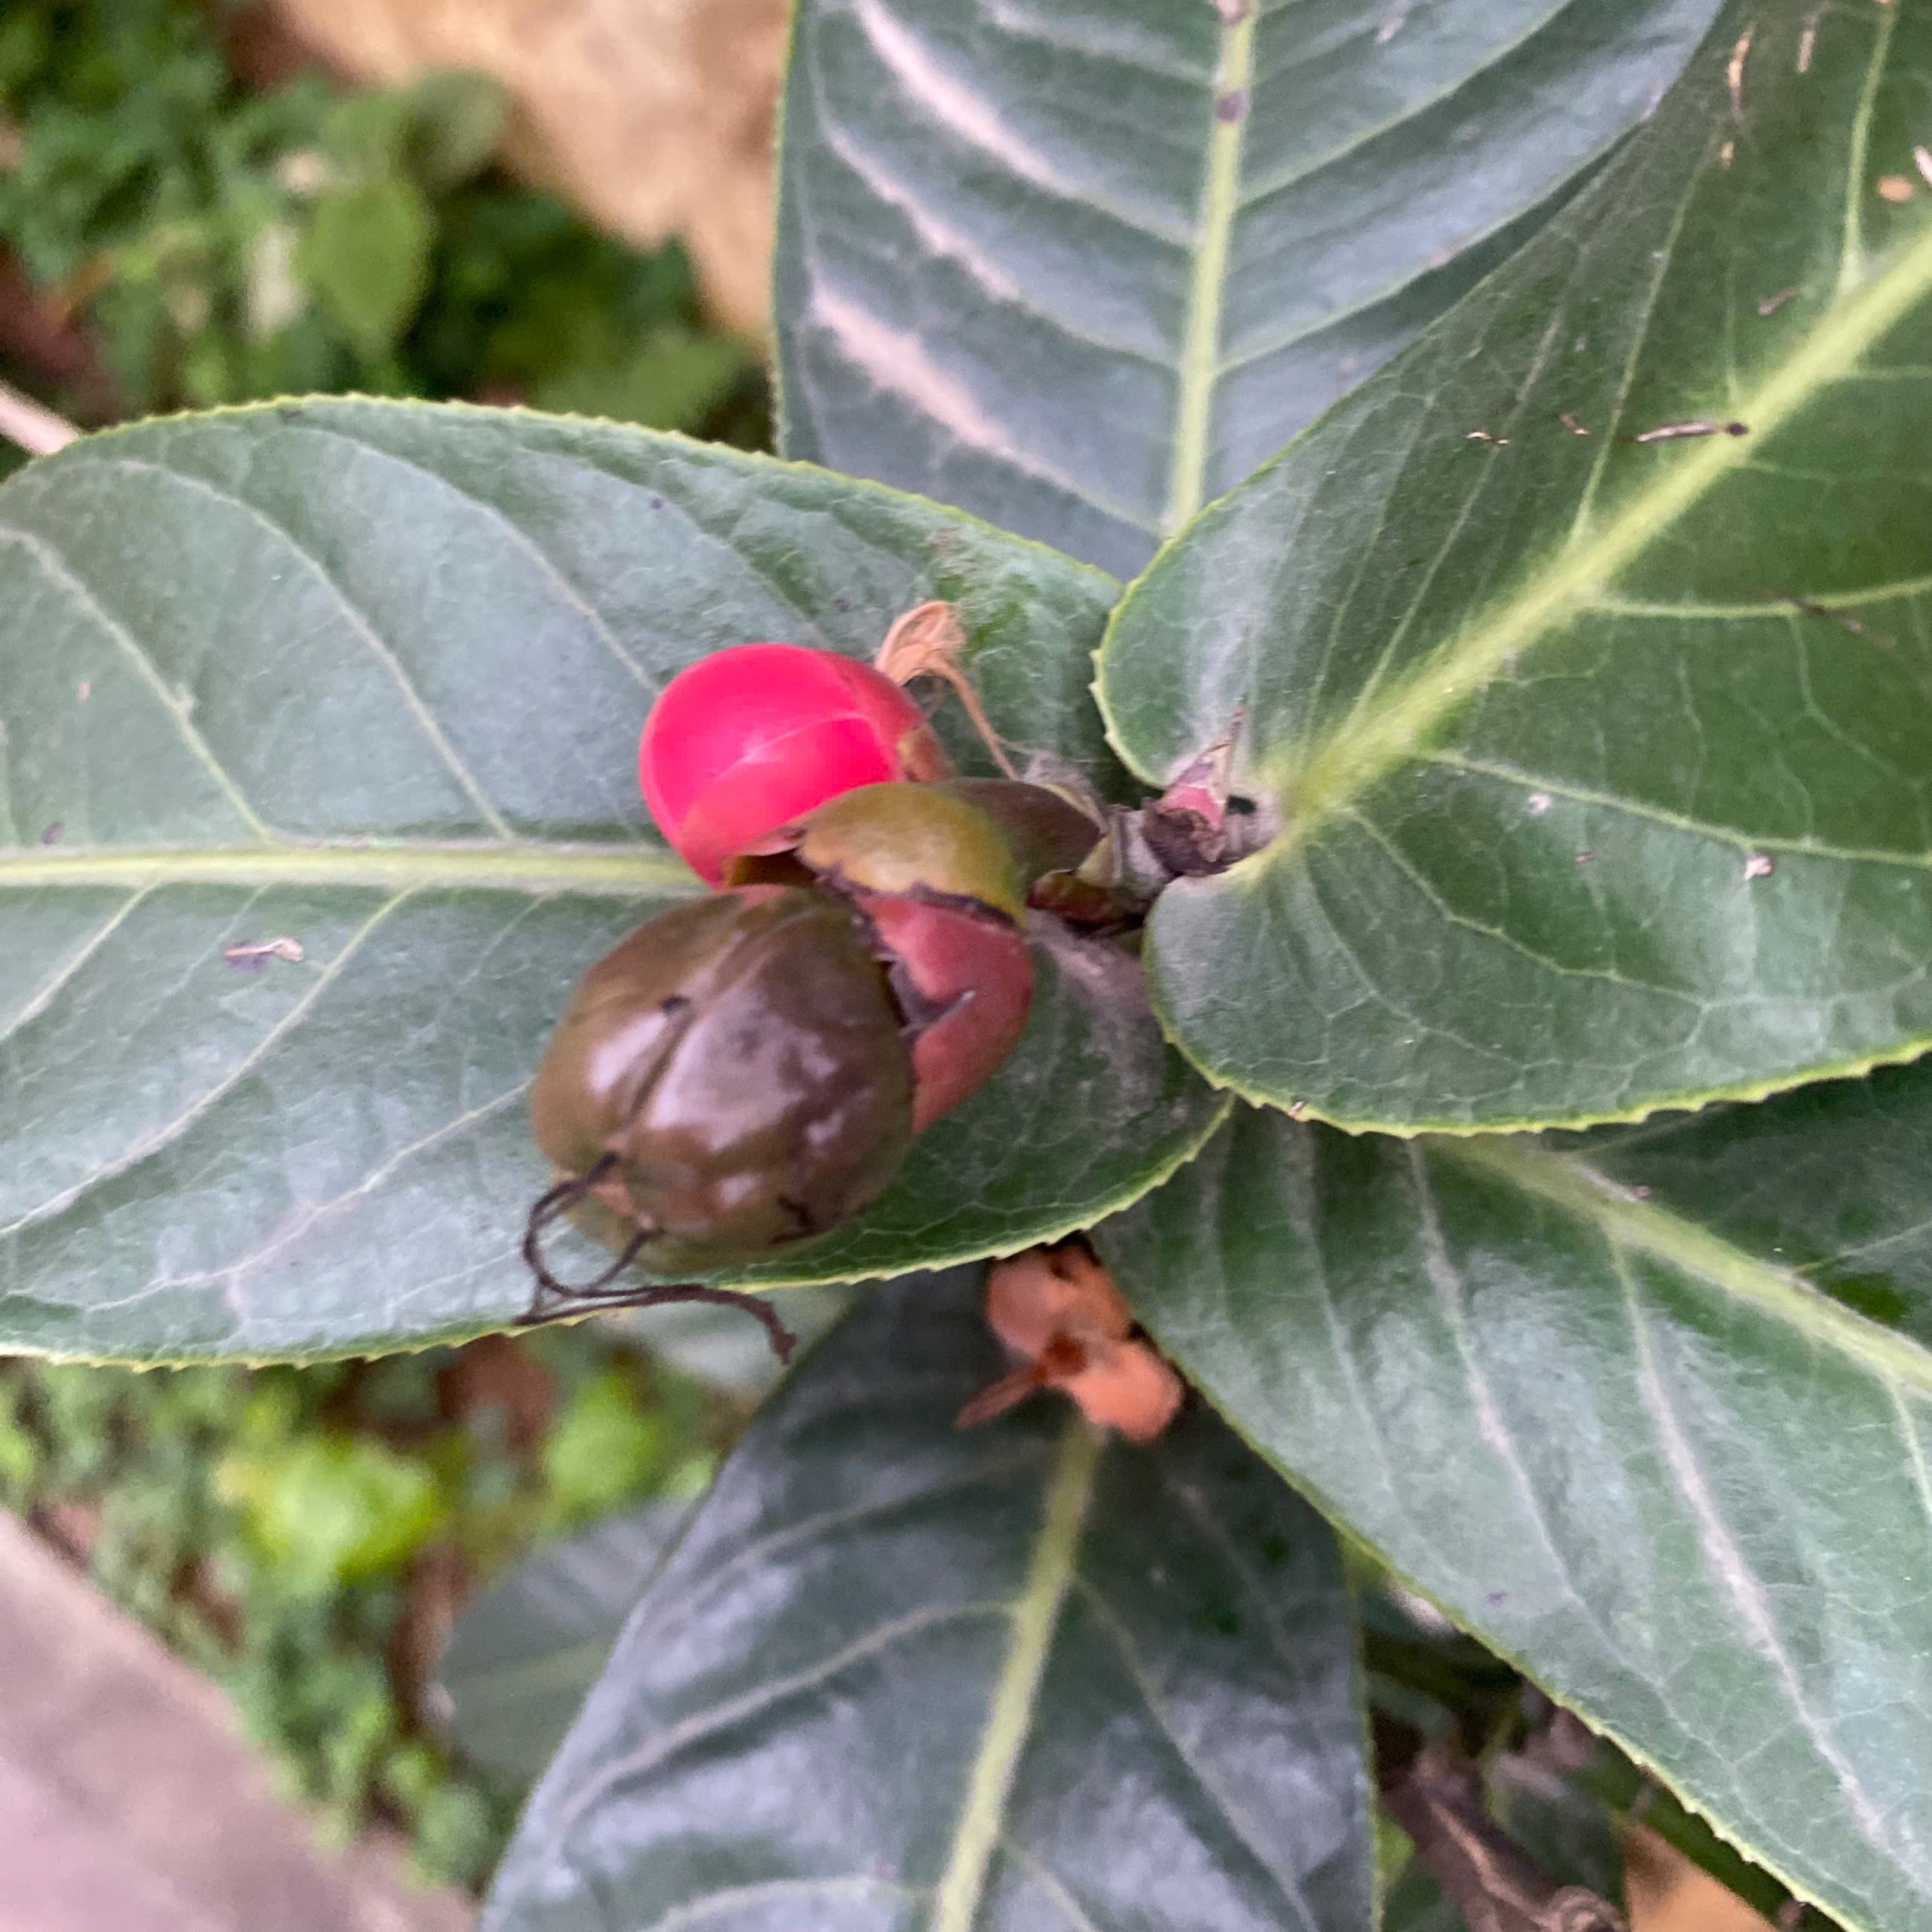hoa_hai_duong: (0, 175, 1932, 1932)
